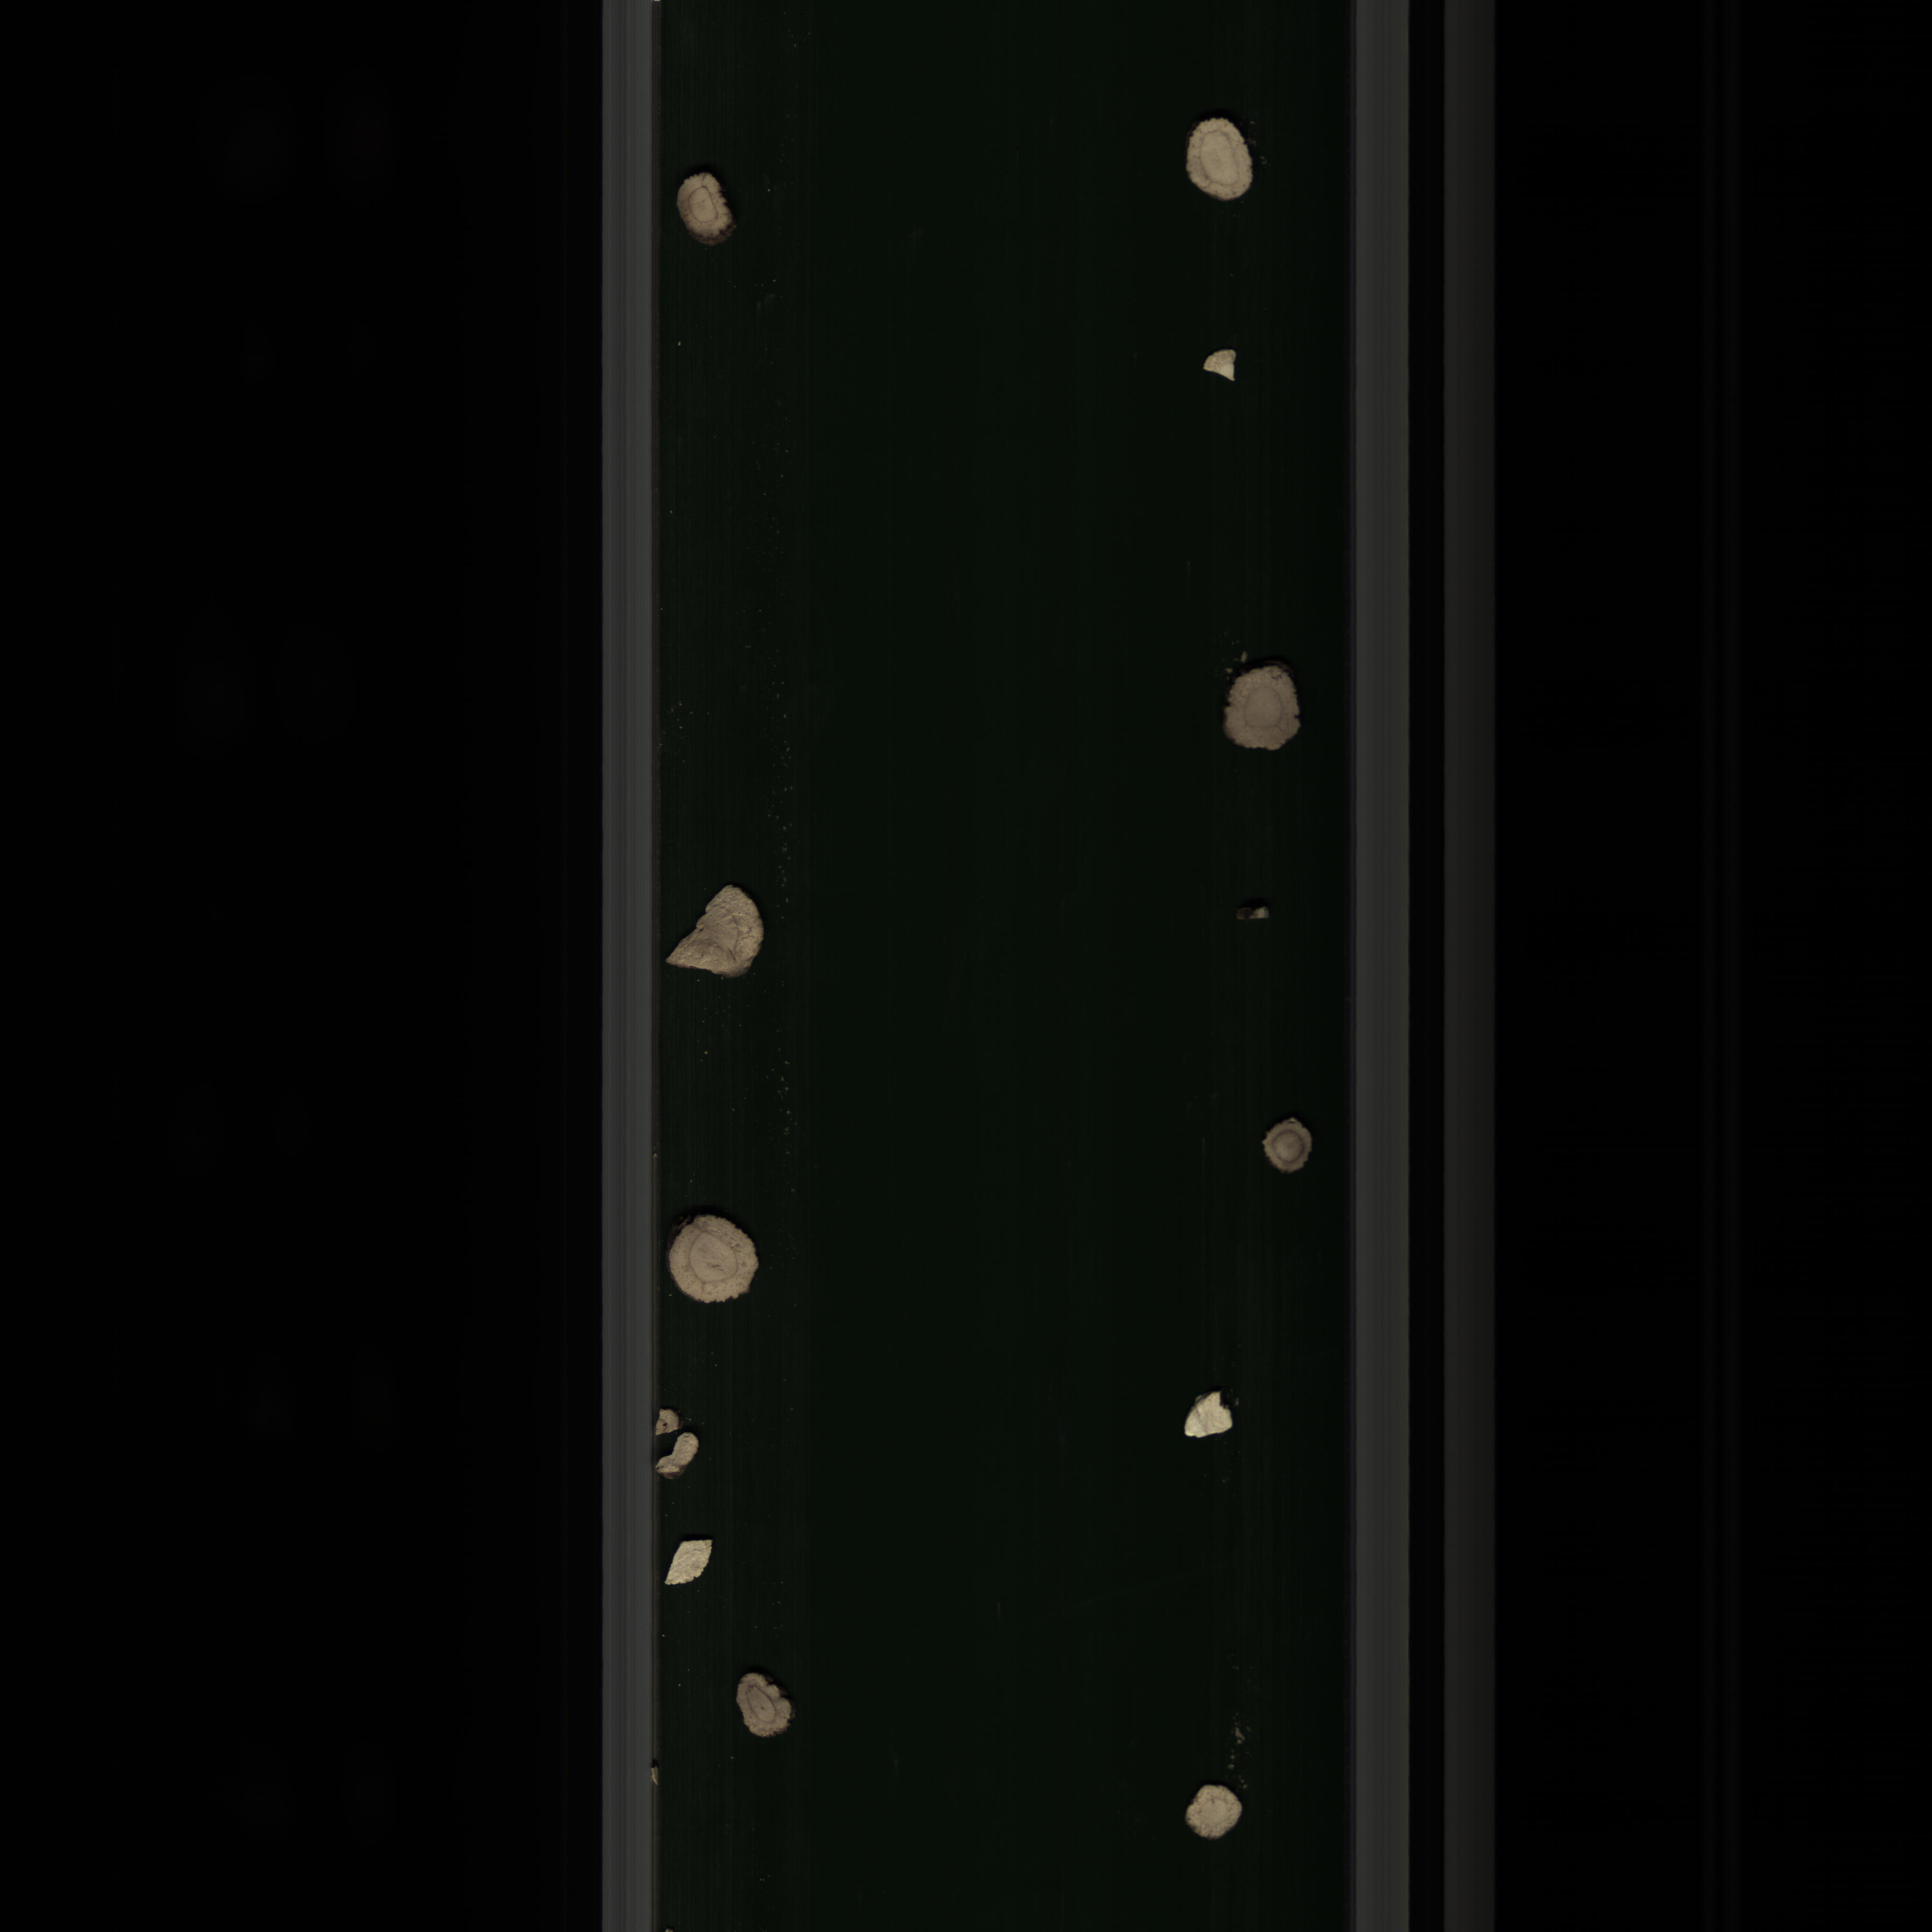debris: (660, 881, 770, 985), (653, 1403, 704, 1486), (1177, 1385, 1242, 1449), (656, 1537, 725, 1589), (1194, 341, 1256, 387)
moldy: (672, 161, 745, 265), (722, 1672, 807, 1739), (1253, 1111, 1313, 1184)
